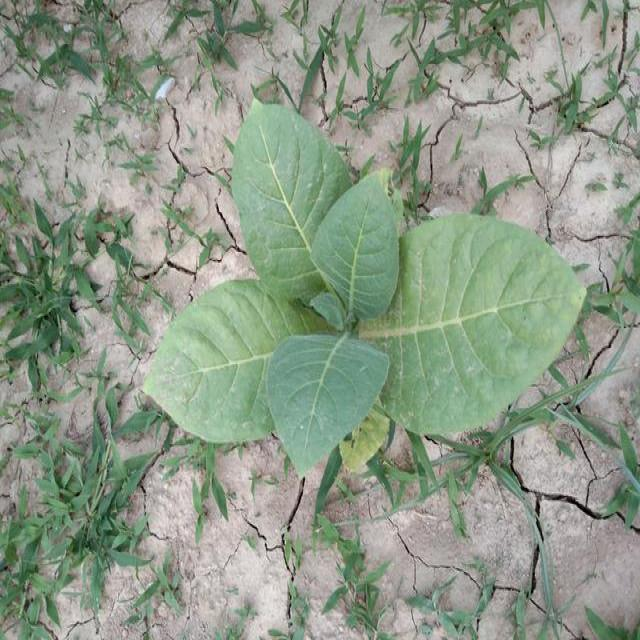crop: (138, 92, 583, 476)
